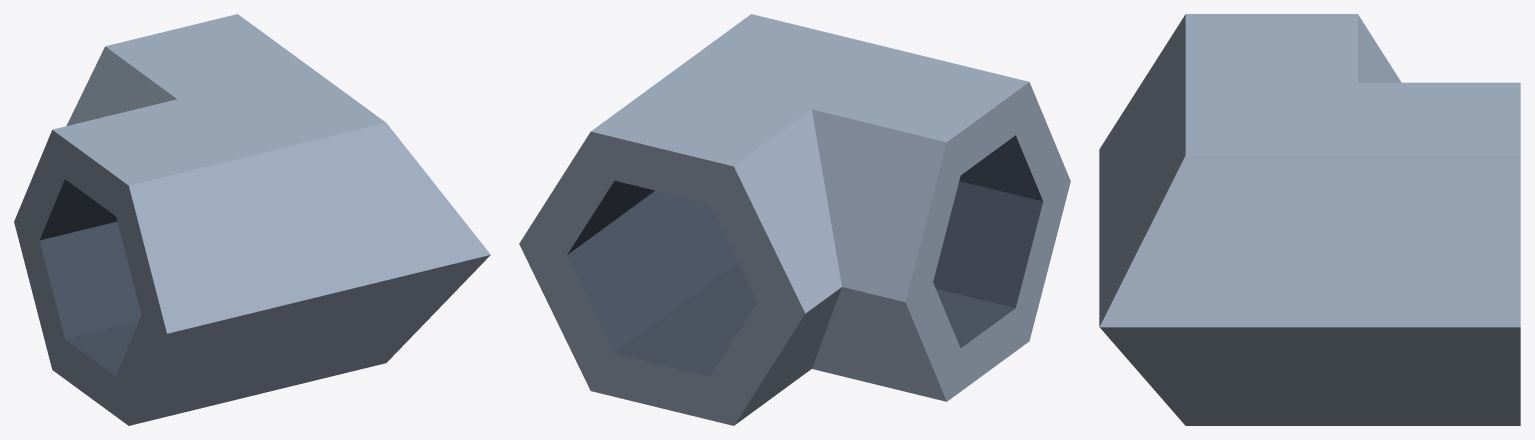
File: pipe_corner.glb
3 renders of one model, left to right at view 1: azimuth 30°, elevation 25°; view 2: azimuth 150°, elevation 25°; view 3: azimuth 270°, elevation 25°, orthographic. The views are drawn at different scales.
Parts seen in each view (by area): view 1: pipe_corner; view 2: pipe_corner; view 3: pipe_corner.
Boxes of the visible parts, x1,y1,x2,y2 form: pipe_corner: (14, 14, 490, 425); pipe_corner: (519, 14, 1070, 425); pipe_corner: (1099, 14, 1520, 425).
Bounding box in the file's own units: 0.8464 × 0.6 × 0.8464.
